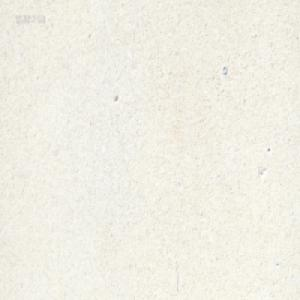Washer: (222, 65, 227, 76)
